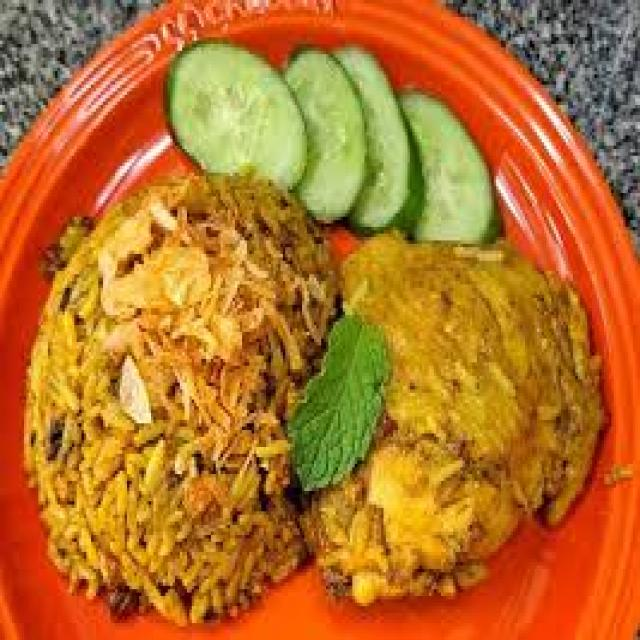carb: (62, 217, 304, 600)
chicken biryani: (12, 210, 607, 622)
meat: (344, 230, 596, 567)
vegetable: (313, 326, 384, 480)
